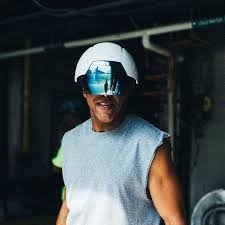helmet: (71, 42, 142, 95)
person with partial safety: (52, 41, 183, 223)
